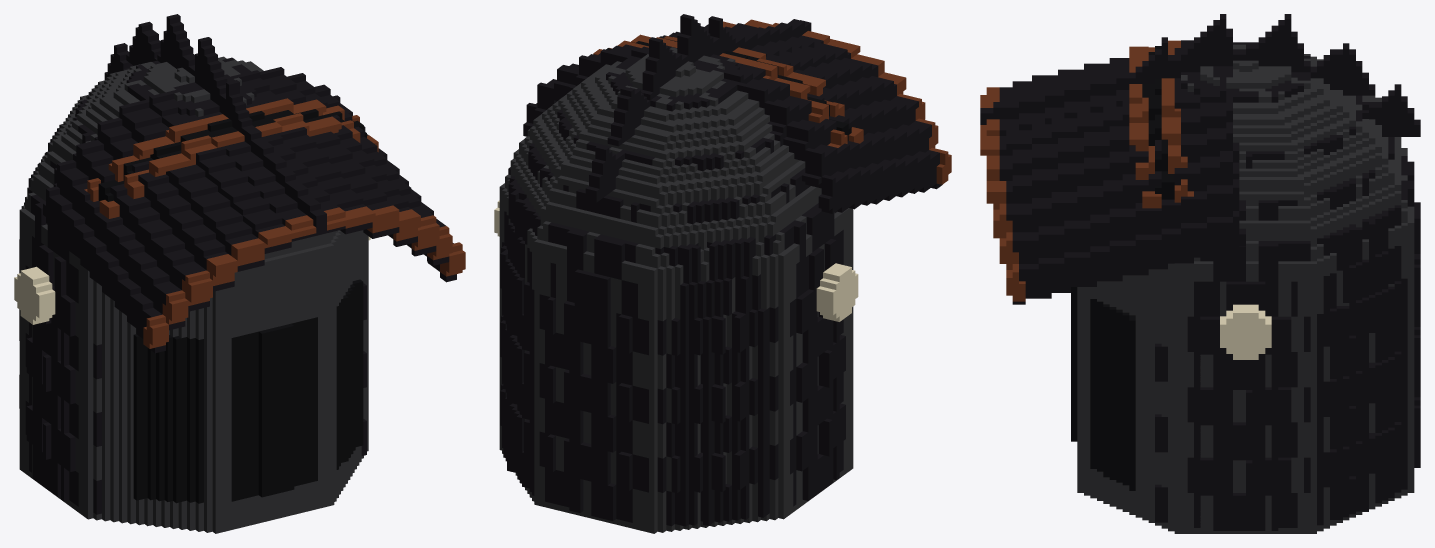
File: helmet_black_dragon_scale_raised.glb
3 views of the same model, side by side, from view 1: azimuth 30°, elevation 25°; view 2: azimuth 150°, elevation 25°; view 3: azimuth 270°, elevation 25° (orthographic). The views are drawn at different scales.
Parts seen in each view (by area): view 1: helmet_black_dragon_scale_raised:compound; view 2: helmet_black_dragon_scale_raised:compound; view 3: helmet_black_dragon_scale_raised:compound.
Part boxes in pixels (x1,y1,x2,y2): helmet_black_dragon_scale_raised:compound: (14,14,465,533); helmet_black_dragon_scale_raised:compound: (494,14,951,533); helmet_black_dragon_scale_raised:compound: (980,14,1420,533).
Size of the model in its own units: 0.248 by 0.304 by 0.272.
